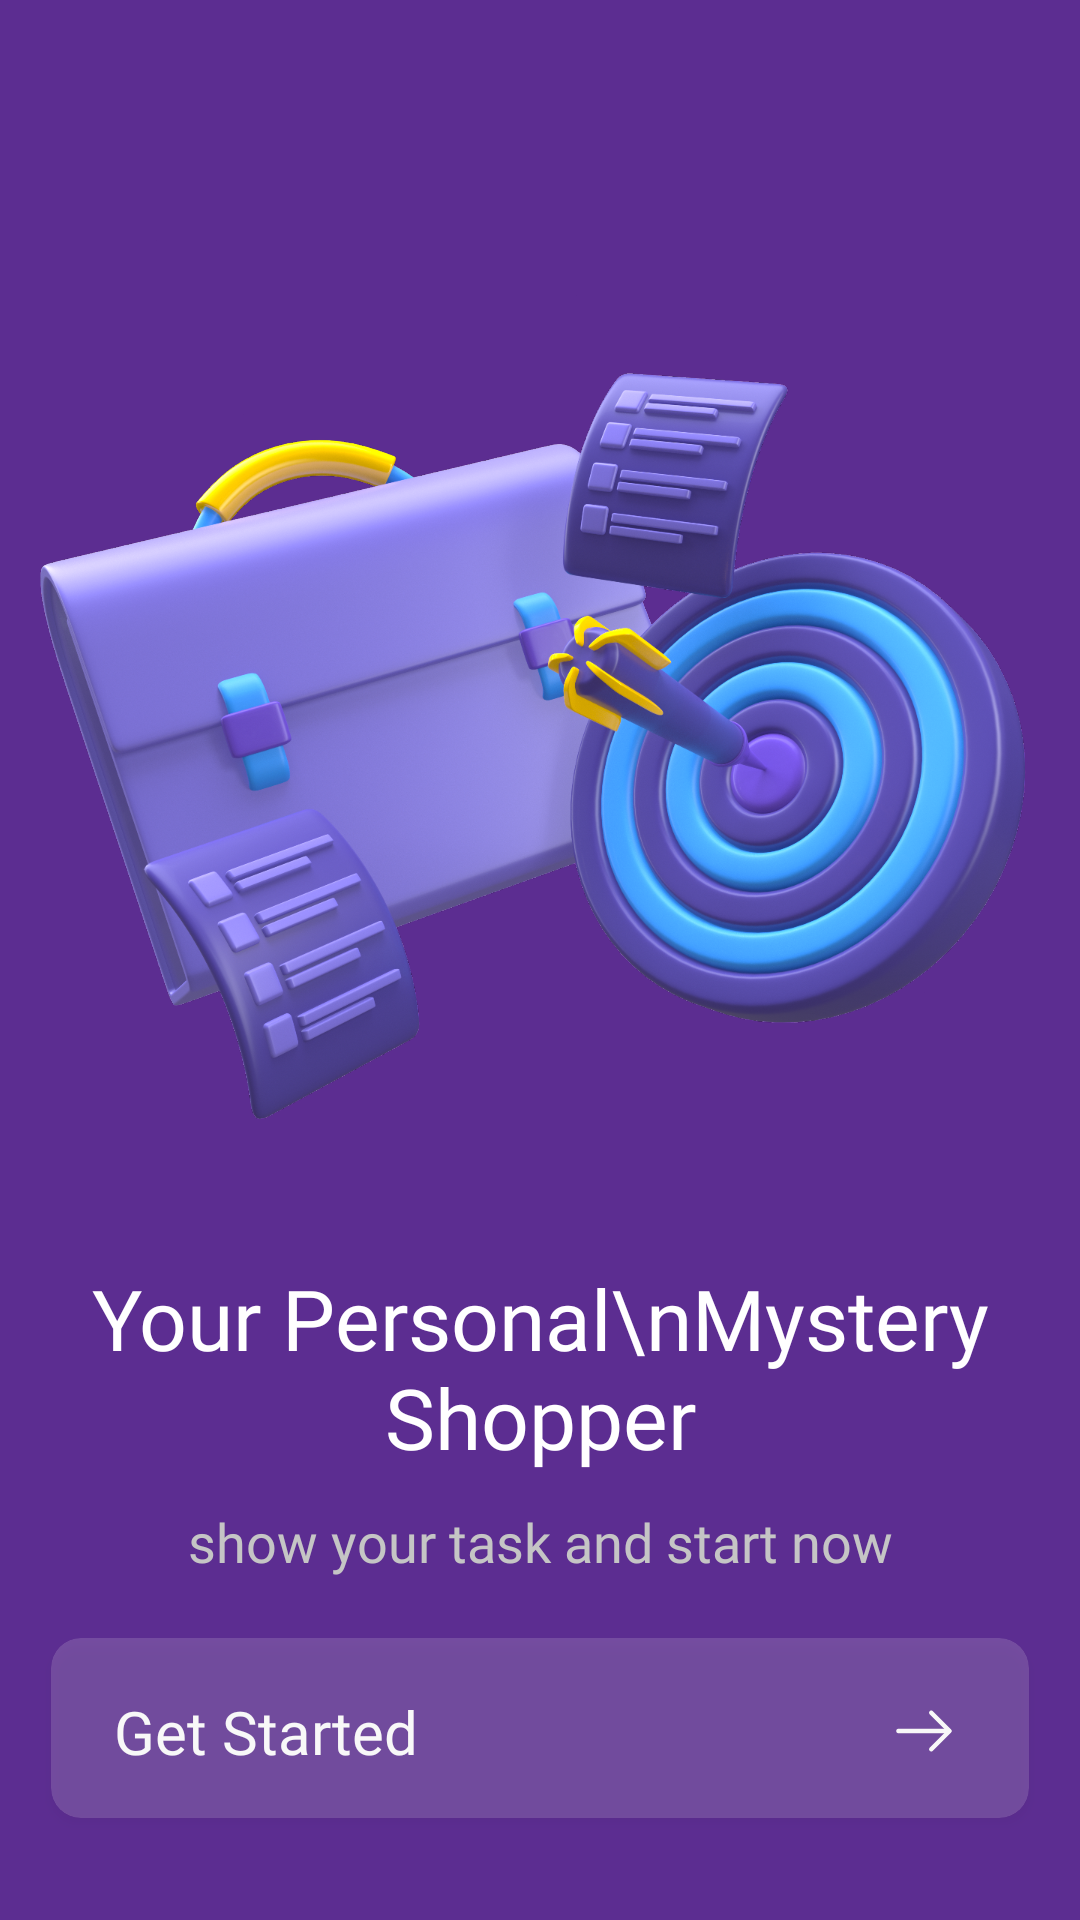

Named icons in this screenshot (1080×1920) and their bounding boxes, (x1, y1, x2, y2):
arrow: (896, 1710, 952, 1752)
